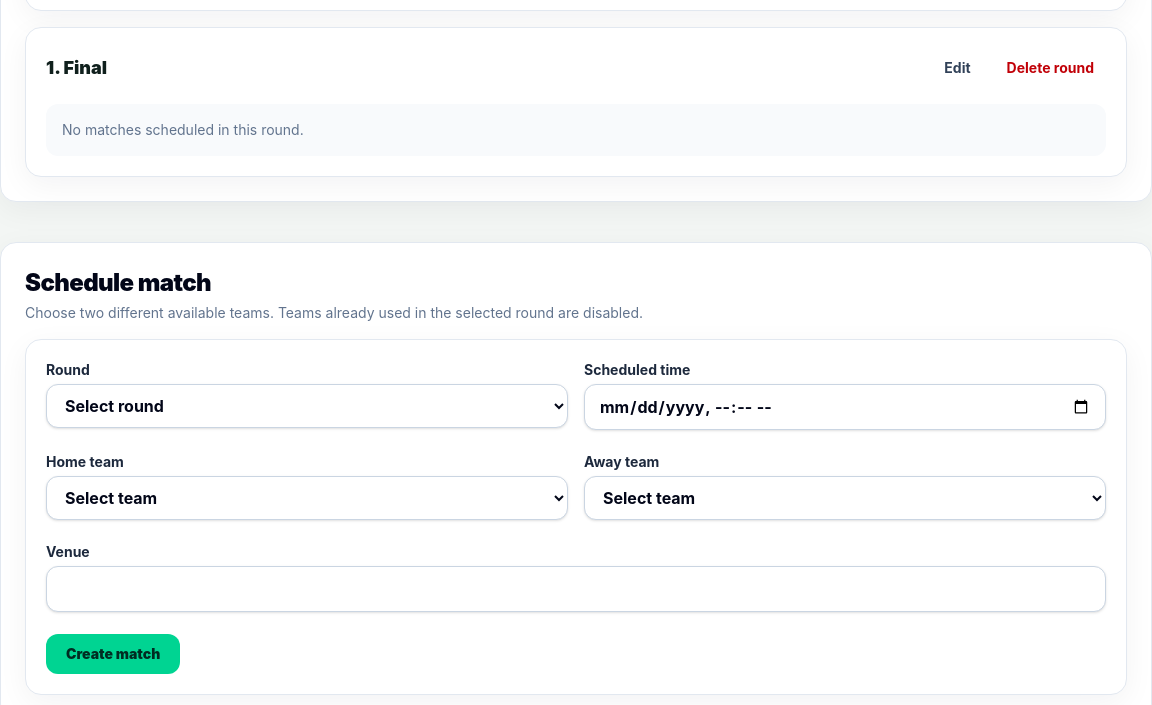
it: EventWorkspace › keeps scheduling values and shows a backend validation failure beside the form
This screenshot has width=1152, height=705.
(page scrolled)
Expected: the heading "1. Final" is shown, [46,57,107,78]
Select "Final" in the dropdown labelled "Round" at (307, 406), box [46,384,568,428]
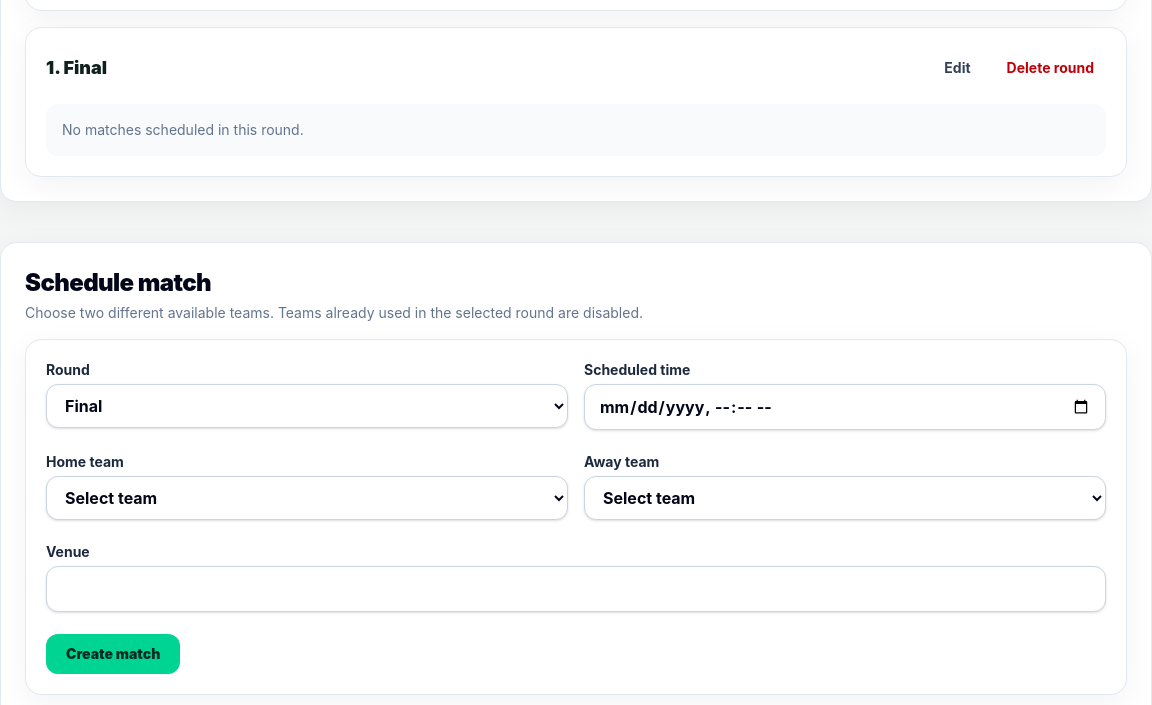
Select "Alpha" in the dropdown labelled "Home team" at (307, 498), box [46,476,568,520]
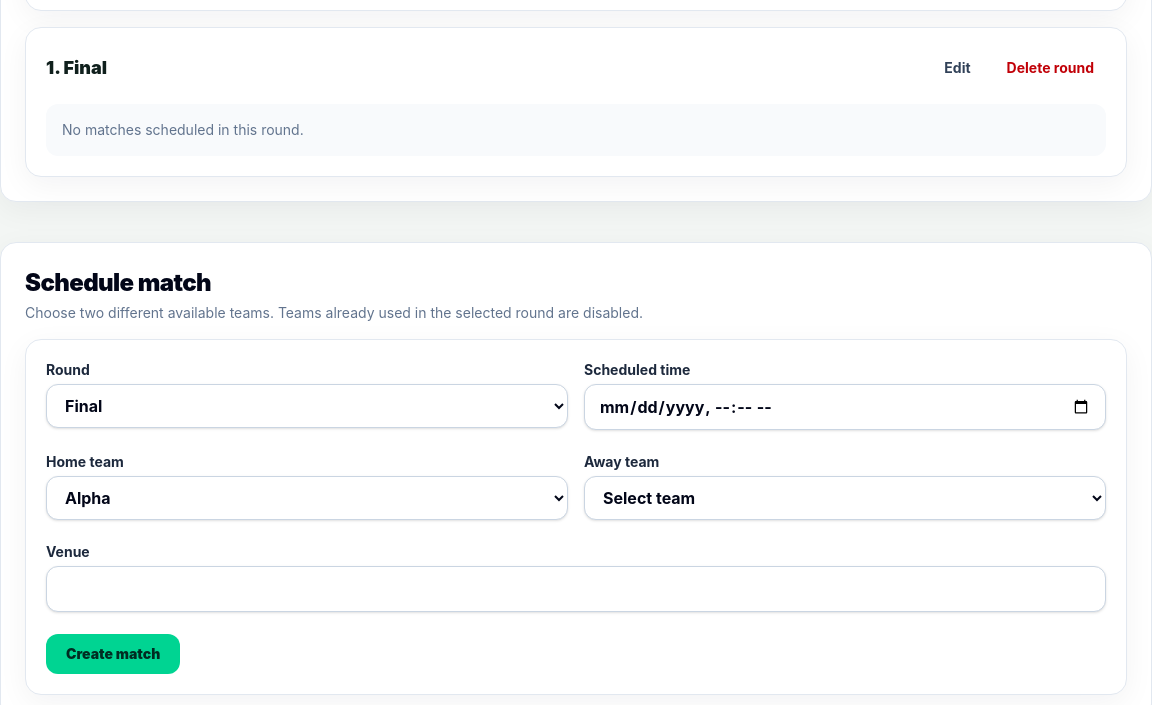
Select "Beta" in the dropdown labelled "Away team" at (845, 498), box [584,476,1106,520]
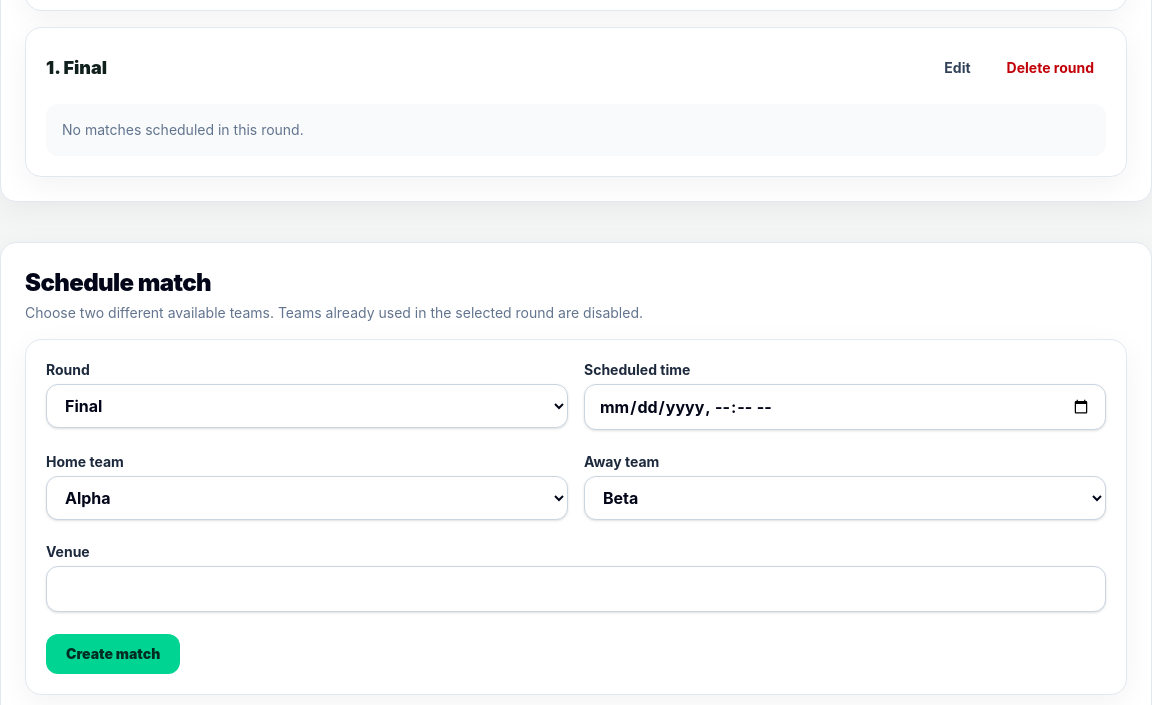
Type "2026-01-01T12:00" into the field labelled "Scheduled time".
click(845, 407); type("2026-01-01T12:00")  # box [584,384,1106,430]
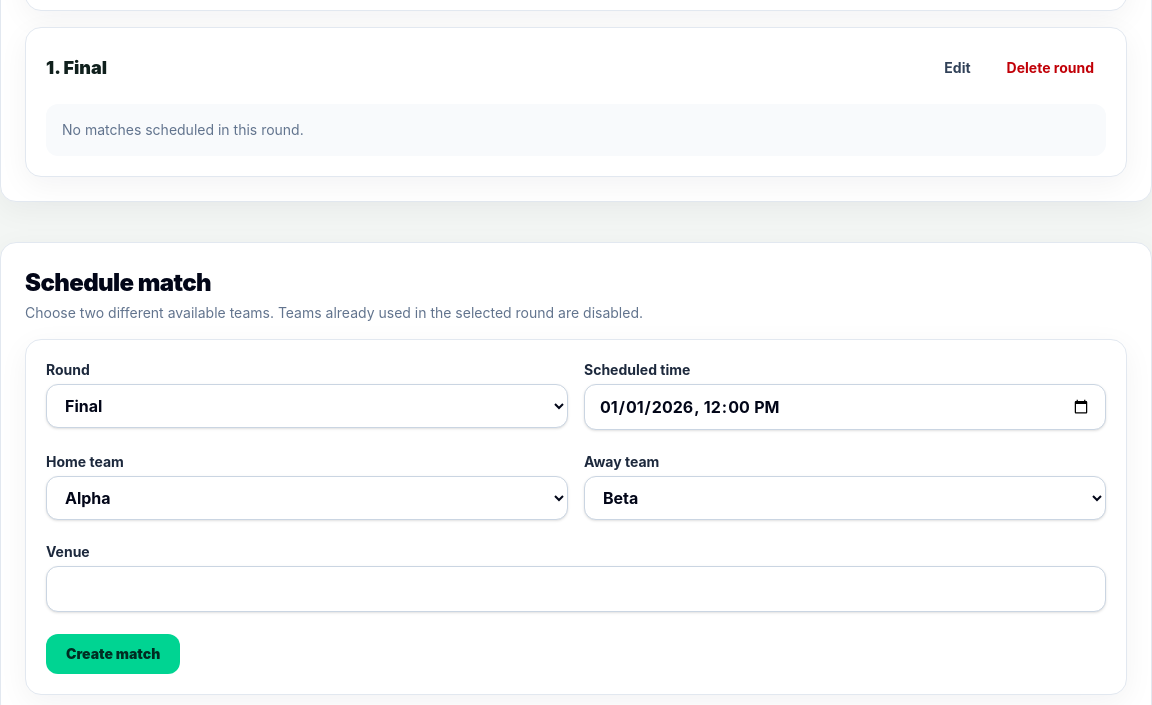
Click the button "Create match".
click(113, 654)  # box [46,634,180,674]
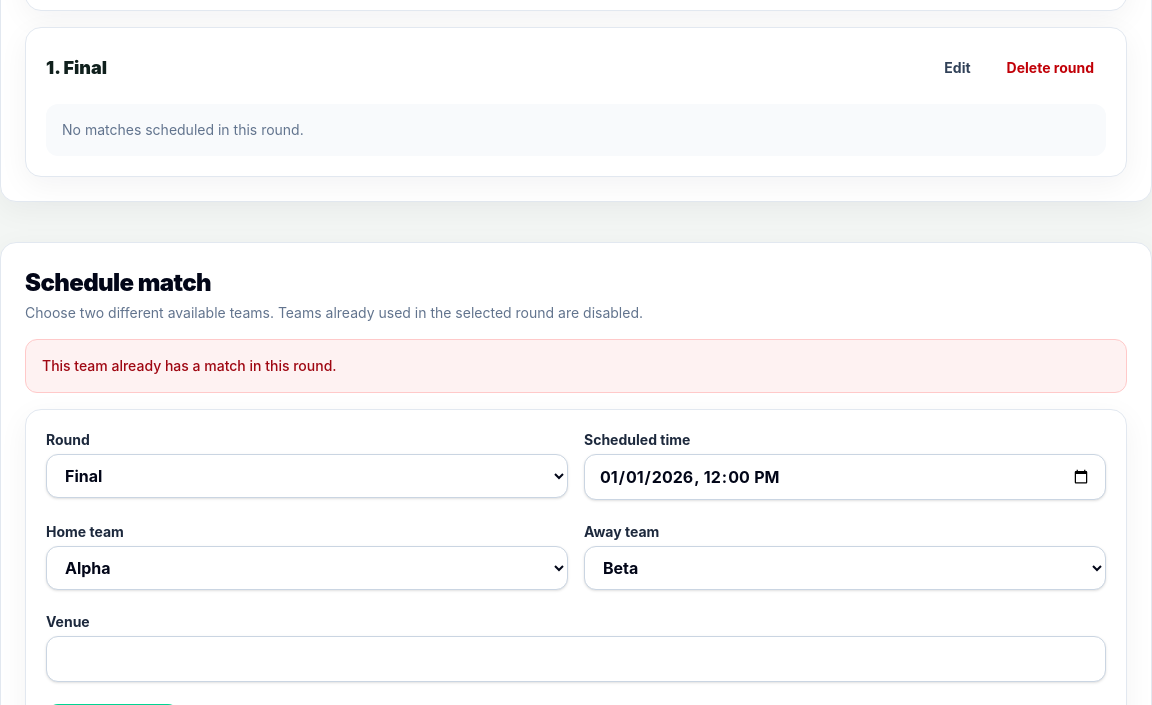
Expected: the message shows "already has a match", [42,357,336,374]
